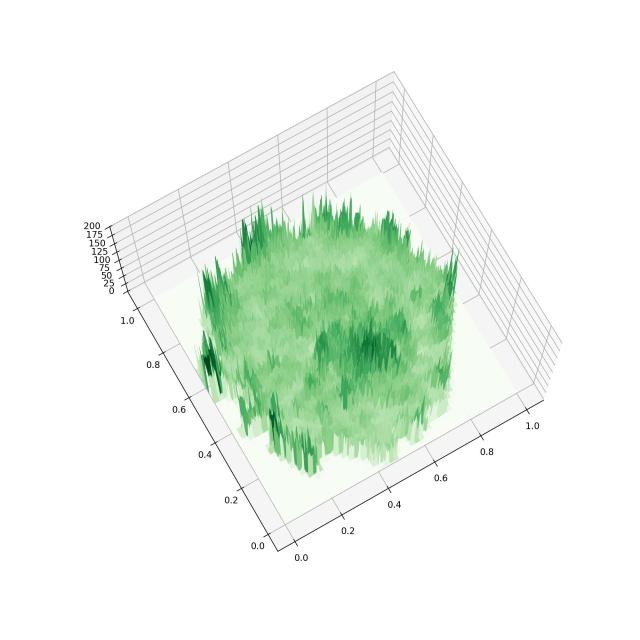spruce: (63, 47, 586, 610)
